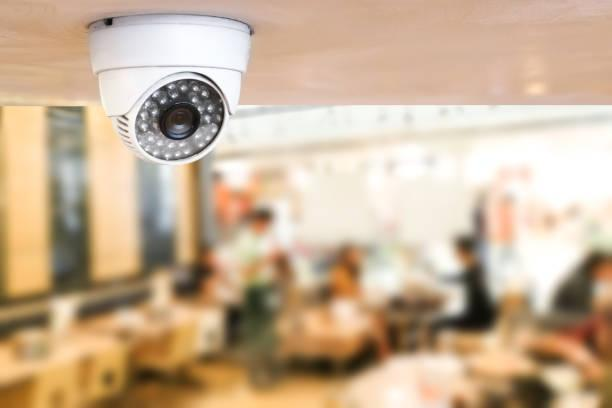camera: (77, 6, 267, 182)
